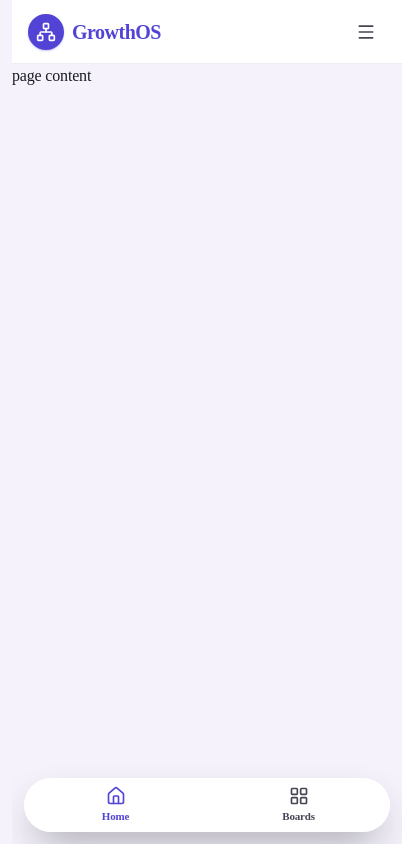
Test: AppShell › closes the mobile menu after navigating via one of its links
Click the button named "Open menu": {"x": 366, "y": 32} [346, 12, 386, 52]
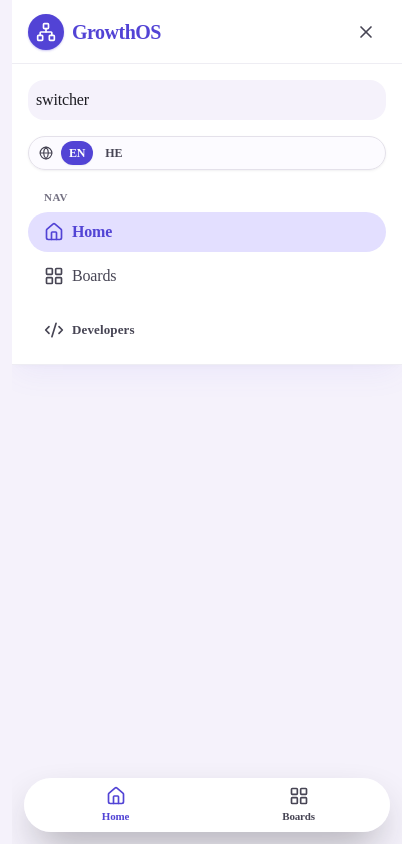
Now the number of links "Boards" is 3
Order: sidebar copy, mobile slide-down menu copy, bottom tab bar copy — click the middle one.
Click the link "Boards" below "Nav": {"x": 80, "y": 276} [44, 266, 116, 286]
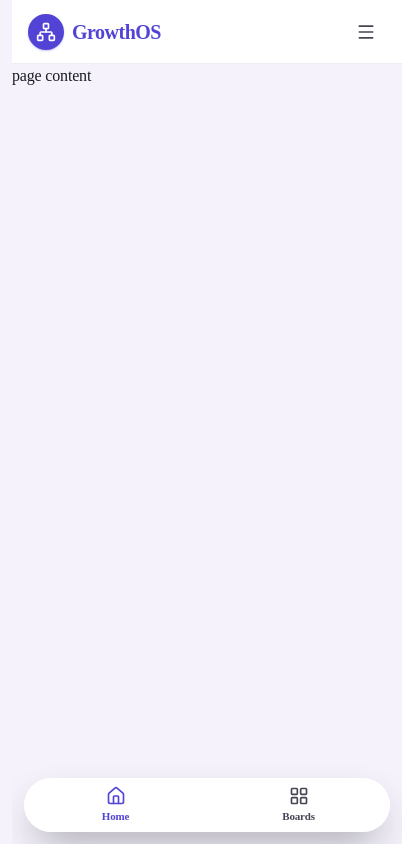
Now the button named "Open menu" is shown, box [346, 12, 386, 52]
